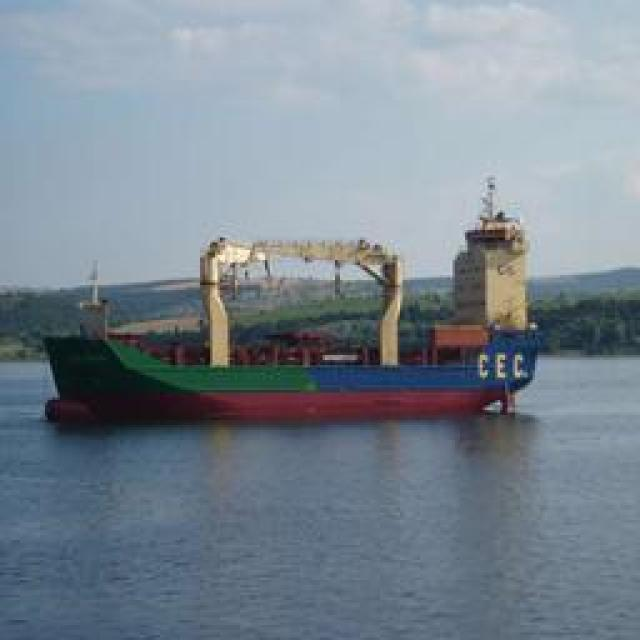CIV_Ship: (41, 245, 524, 423)
